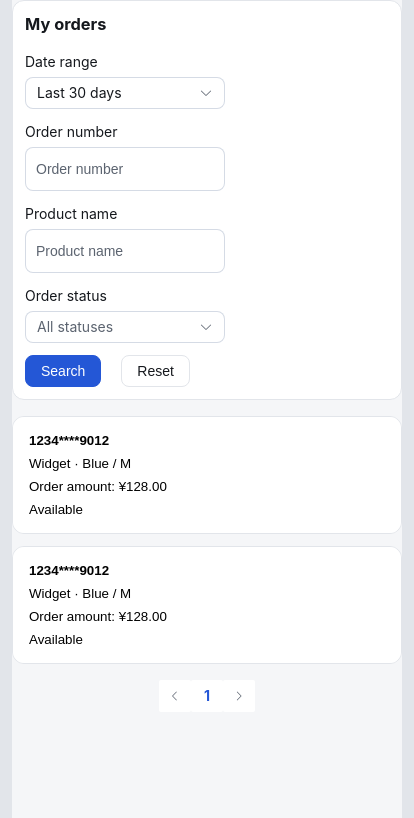
Test case: creator order details › keeps duplicate masked order numbers independently expandable
The width and height of the screenshot is (414, 818).
Click the 1st button with class "order-card__summary".
click(69, 440)  # box [13,417,401,533]
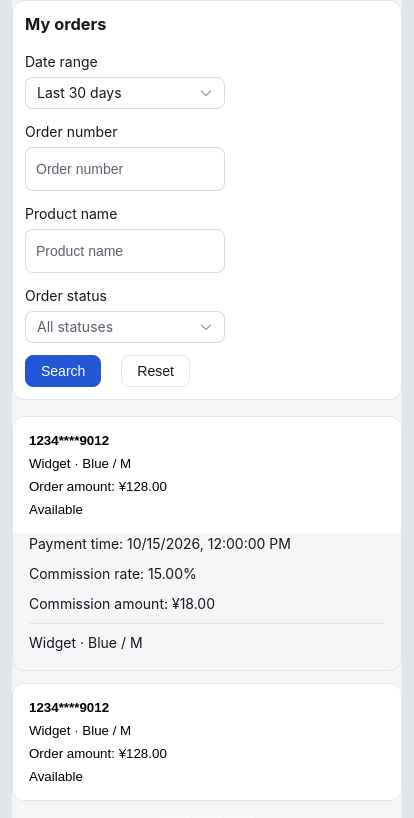
Expected: the number of elements with class "order-card__details" is 1, [13,533,401,670]
